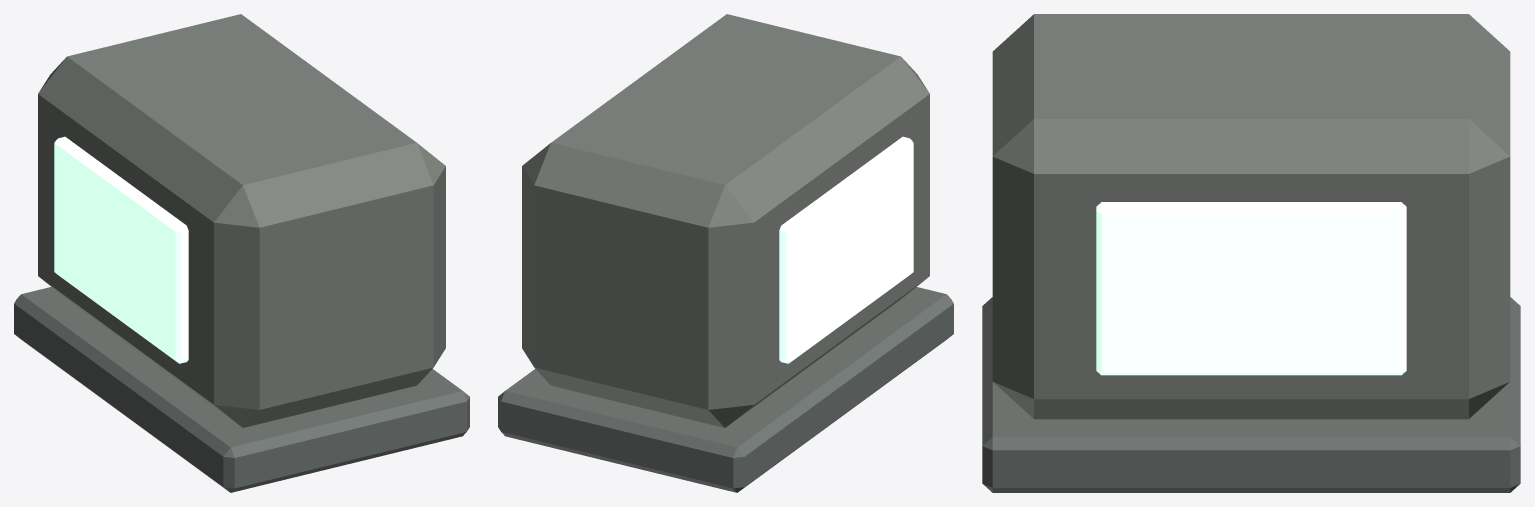
File: part_zasobnik_pl.glb
3 views of the same model, side by side, from view 1: azimuth 30°, elevation 25°; view 2: azimuth 150°, elevation 25°; view 3: azimuth 270°, elevation 25° (orthographic). The views are drawn at different scales.
Parts seen in each view (by area): view 1: Zasobnik_pl; view 2: Zasobnik_pl; view 3: Zasobnik_pl.
Boxes of the visible parts, left/top/right/bottom form: Zasobnik_pl: left=14, top=14, right=469, bottom=492; Zasobnik_pl: left=498, top=14, right=953, bottom=492; Zasobnik_pl: left=982, top=14, right=1520, bottom=492.
Bounding box in the file's own units: 0.035 × 0.038 × 0.052.
